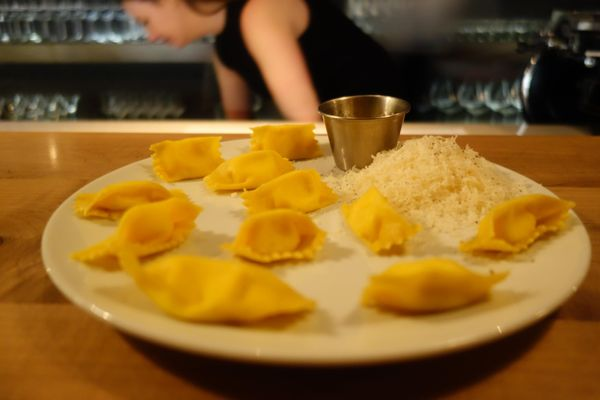sushi: (318, 93, 411, 172)
